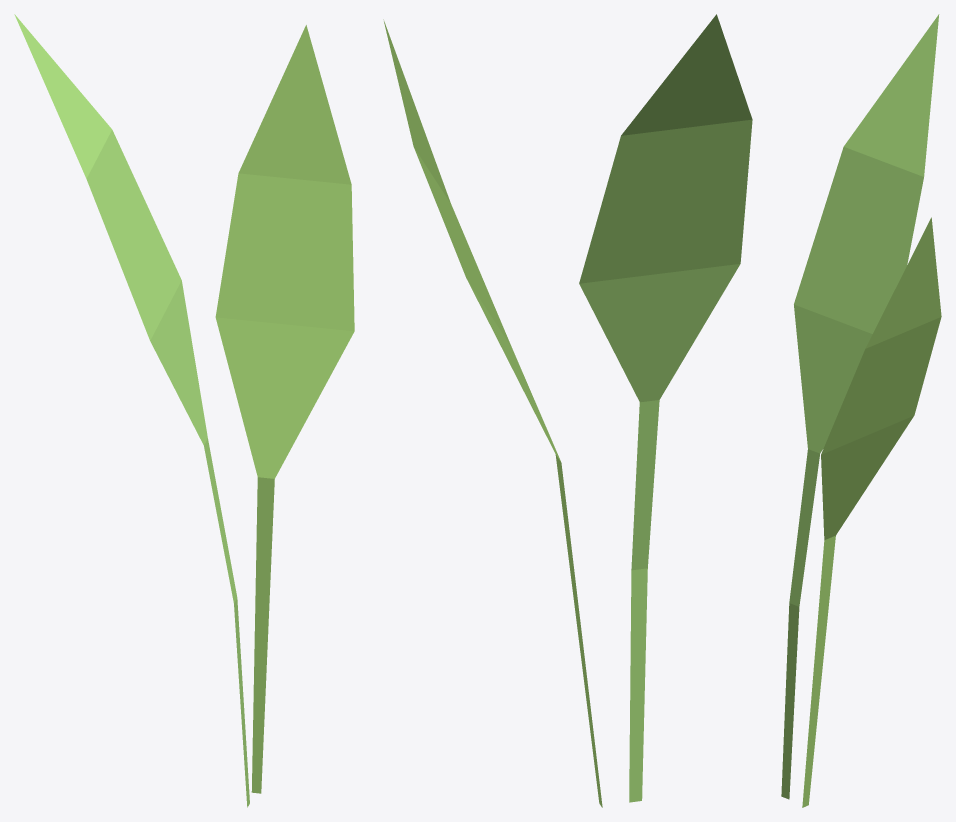
Rendered from Plant_g_TwoS_02.fbx.
3 renders of one model, left to right at view 1: azimuth 30°, elevation 25°; view 2: azimuth 150°, elevation 25°; view 3: azimuth 270°, elevation 25°, orthographic. The views are drawn at different scales.
Visible parts, largest first — view 1: Plant_g_TwoS_02; view 2: Plant_g_TwoS_02; view 3: Plant_g_TwoS_02.
Part boxes in pixels (x1,y1,x2,y2): Plant_g_TwoS_02: [14, 14, 354, 807]; Plant_g_TwoS_02: [383, 14, 752, 807]; Plant_g_TwoS_02: [781, 14, 941, 807].
Bounding box in the file's own units: 0.2669 × 0.658 × 0.1336.
